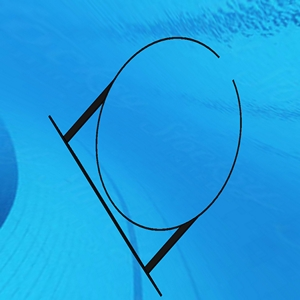circle: (48, 37, 244, 295)
